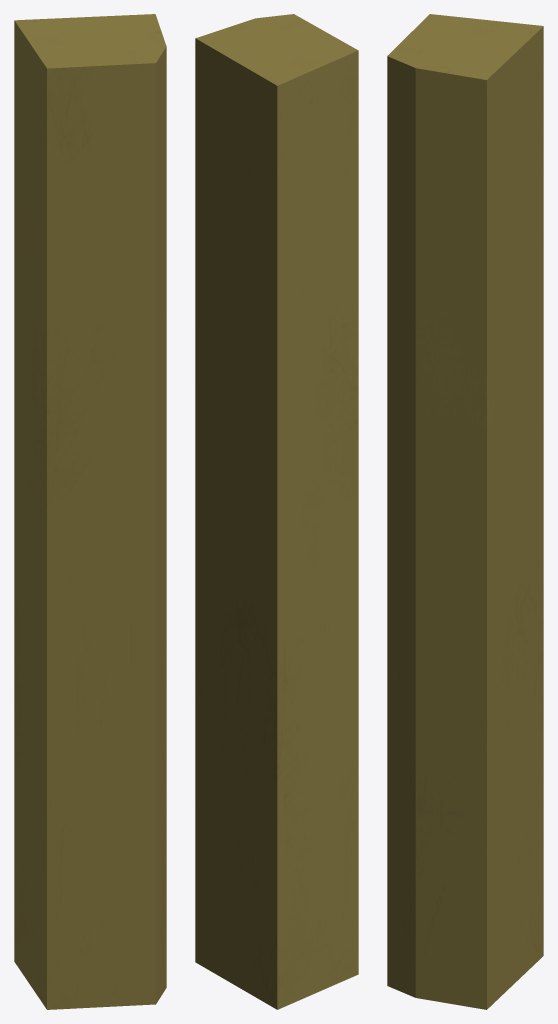
File: andorra.DAE
3 renders of one model, left to right at view 1: azimuth 30°, elevation 25°; view 2: azimuth 150°, elevation 25°; view 3: azimuth 270°, elevation 25°, orthographic.
Parts seen in each view (by area): view 1: Andorra; view 2: Andorra; view 3: Andorra.
Boxes of the visible parts, x1=… form: Andorra: x1=14, y1=14, x2=166, y2=1009; Andorra: x1=195, y1=14, x2=358, y2=1009; Andorra: x1=387, y1=14, x2=543, y2=1009.
Size of the model in its own units: 3.82 by 3.82 by 25.
1 material, 1 textured.
